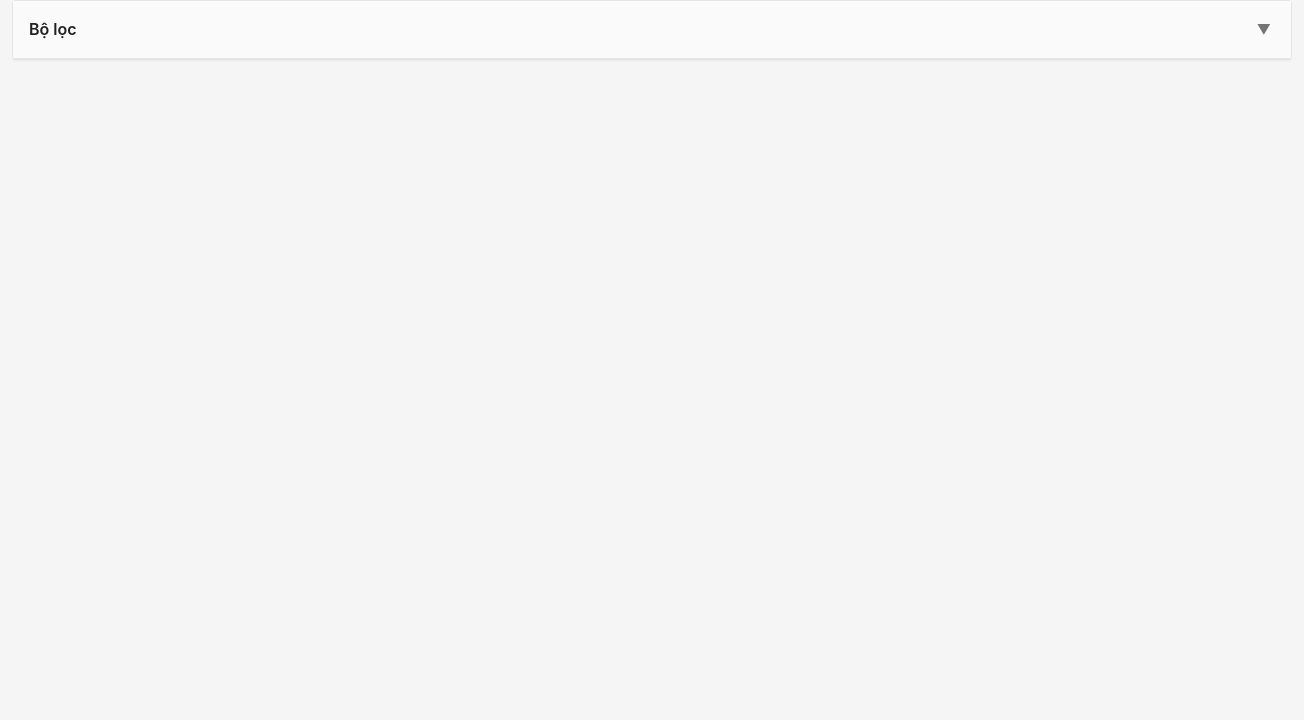
FilterPanel Component › shows clear button only when filters are active
The width and height of the screenshot is (1304, 720).
// Expand panel
Click the button "▼" at (1264, 30), box x1=1253 y1=17 x2=1275 y2=42
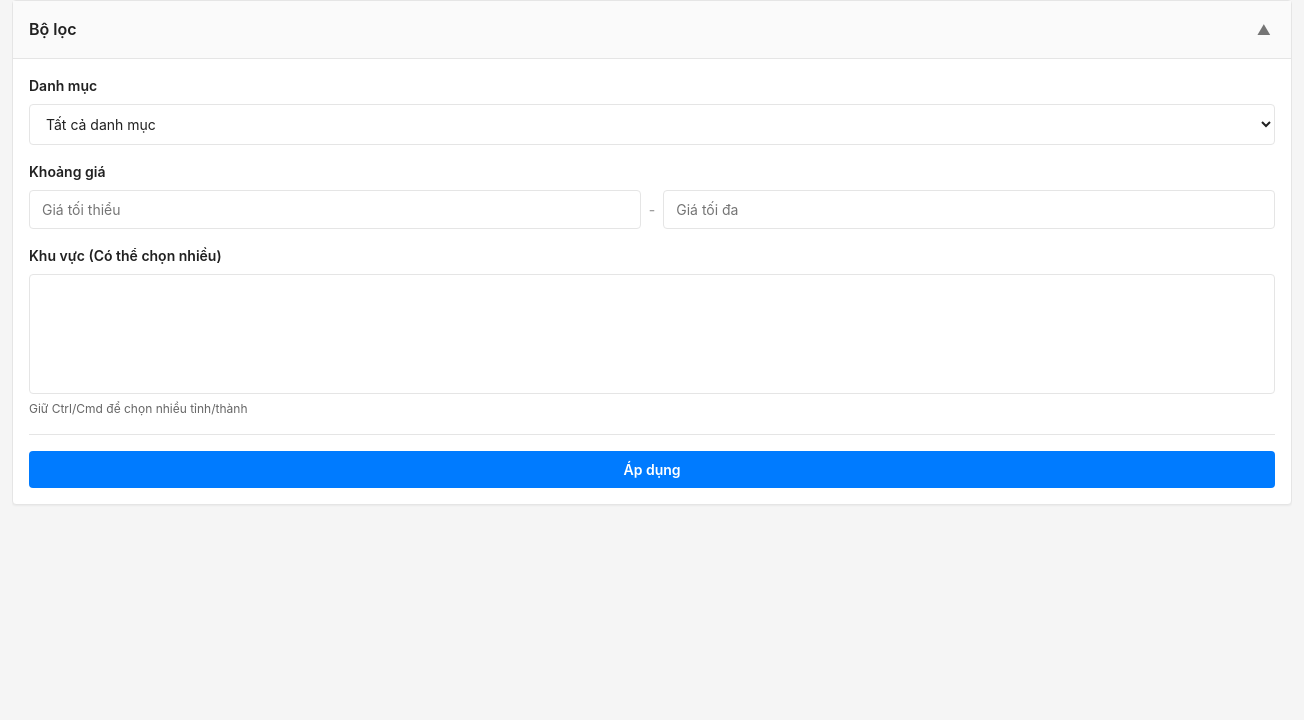
Check: the text "xóa bộ lọc" is not shown
// Set a filter
Select "Điện tử" in the dropdown labelled "Danh mục" at (652, 124), box x1=29 y1=104 x2=1275 y2=145
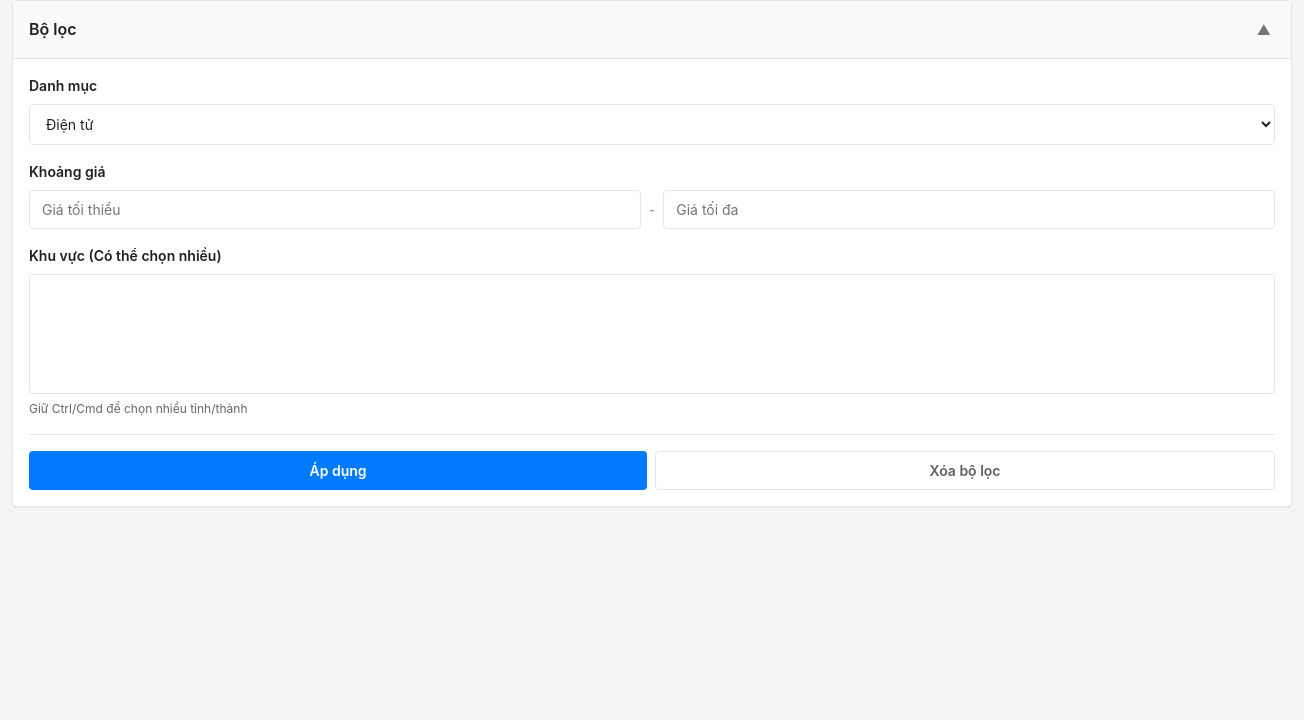
Check: the button "Xóa bộ lọc" is shown, box x1=655 y1=451 x2=1275 y2=490
